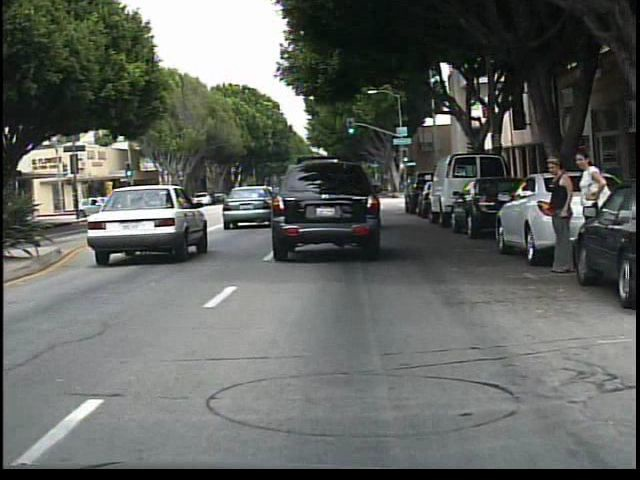person: (571, 147, 611, 272), (536, 153, 573, 279)
